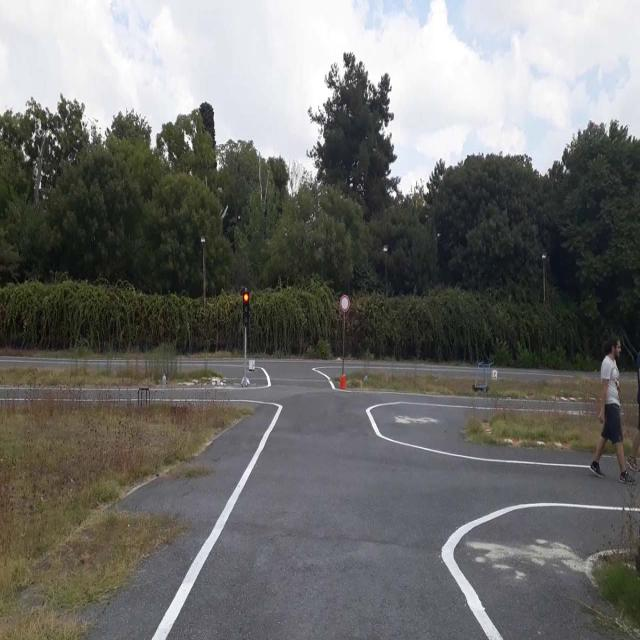kirmizi: (243, 292, 250, 324)
